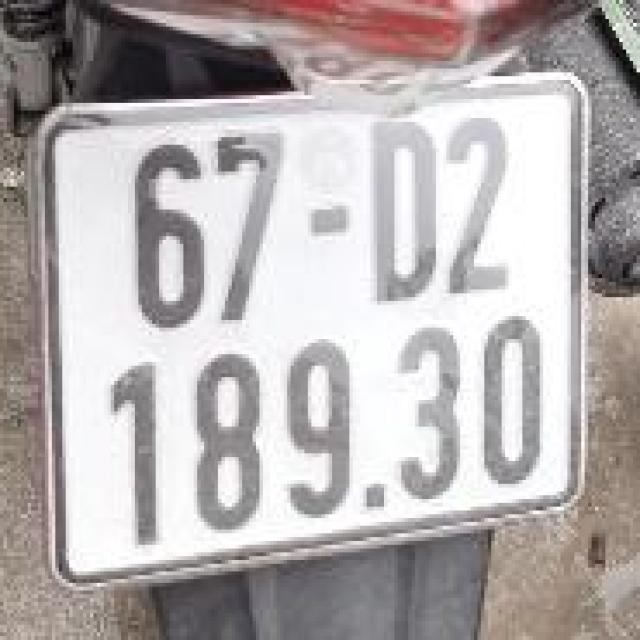0: (472, 309, 573, 495)
1: (92, 350, 161, 560)
2: (439, 101, 533, 295)
3: (389, 310, 472, 505)
6: (123, 139, 209, 337)
7: (206, 108, 296, 330)
8: (183, 341, 277, 543)
9: (275, 326, 368, 539)
D: (360, 114, 446, 316)
